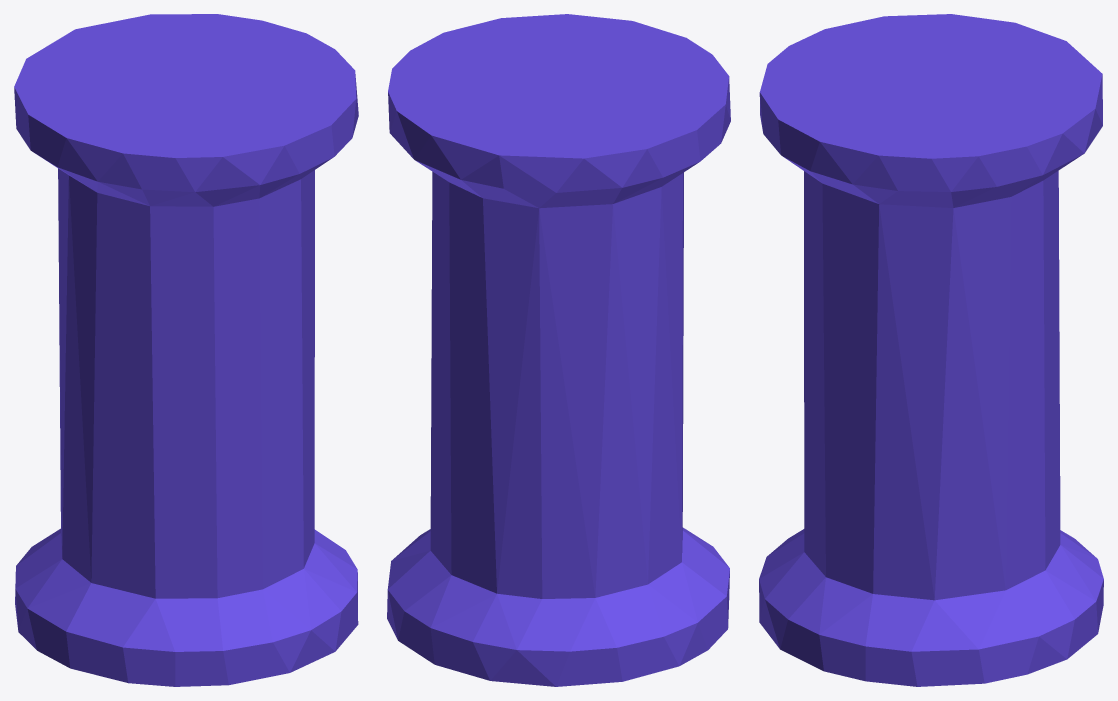
Rendered from canister collision.fbx.
3 views of the same model, side by side, from view 1: azimuth 30°, elevation 25°; view 2: azimuth 150°, elevation 25°; view 3: azimuth 270°, elevation 25° (orthographic).
Visible parts, largest first — view 1: canister collision; view 2: canister collision; view 3: canister collision.
Part boxes in pixels (x1=…): canister collision: x1=14, y1=14, x2=358, y2=686; canister collision: x1=387, y1=14, x2=730, y2=686; canister collision: x1=759, y1=14, x2=1103, y2=686.
Size of the model in its own units: 241 by 407 by 241.
